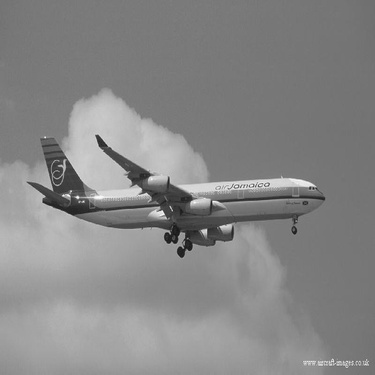airplane: (30, 128, 331, 261)
